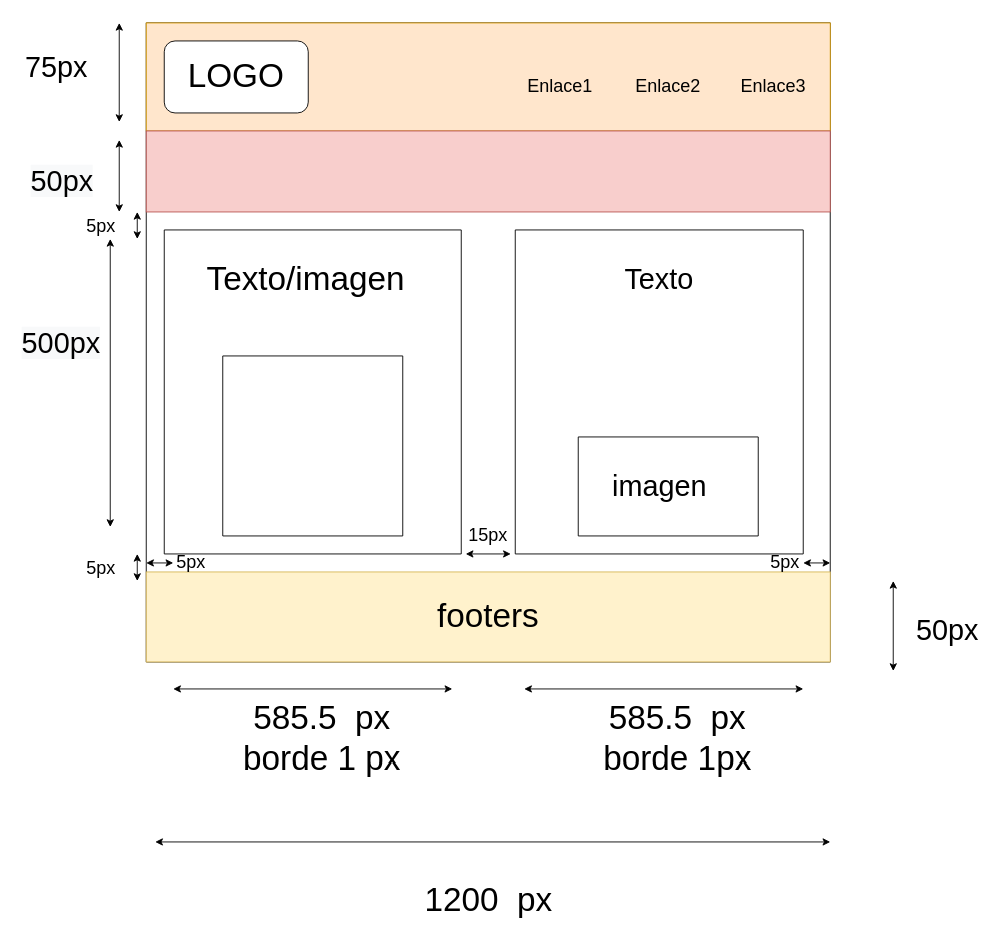
This 1003x936 diagram has some shape labels left out. Here are the shapes that lost their labels. From the top down, the box of each, then its label:
(145, 130, 830, 212): NAVIDAD LOYOLA
(222, 355, 403, 536): Video
